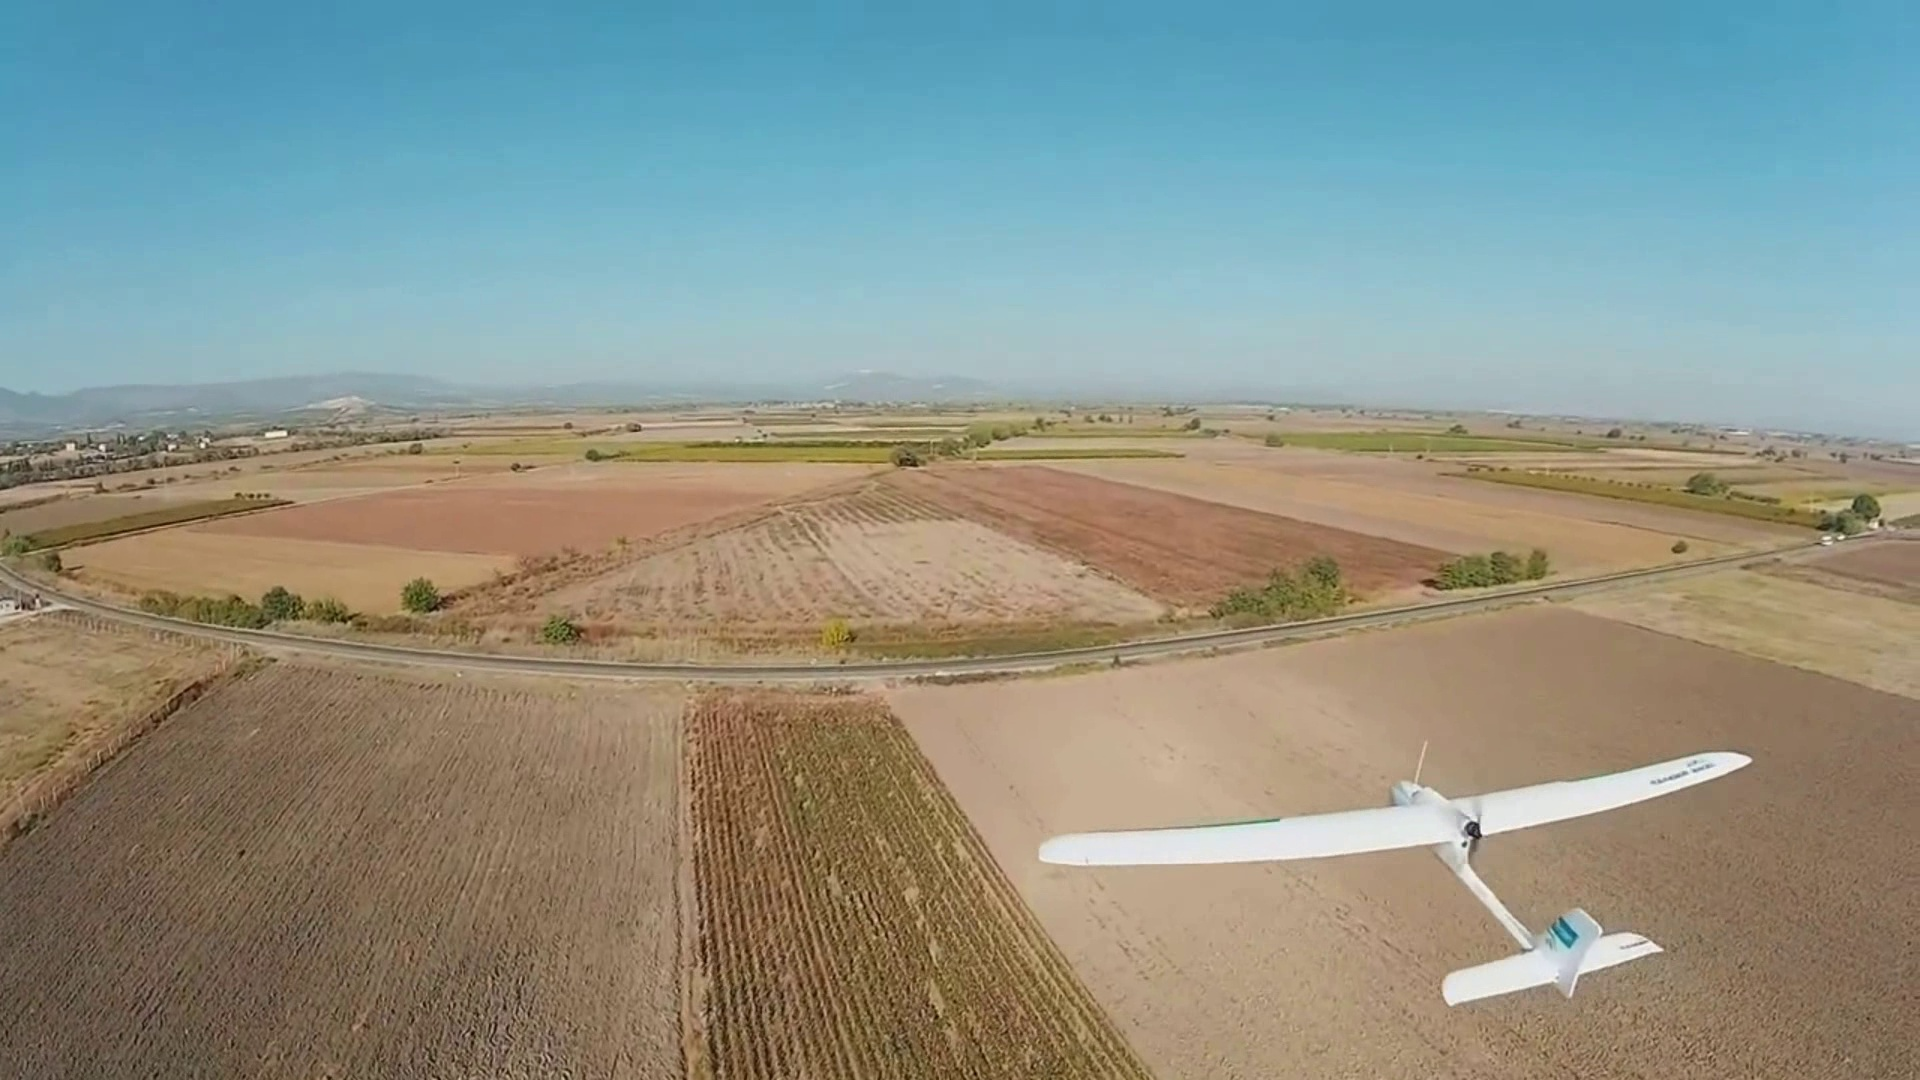airplane: (1040, 741, 1754, 1000)
